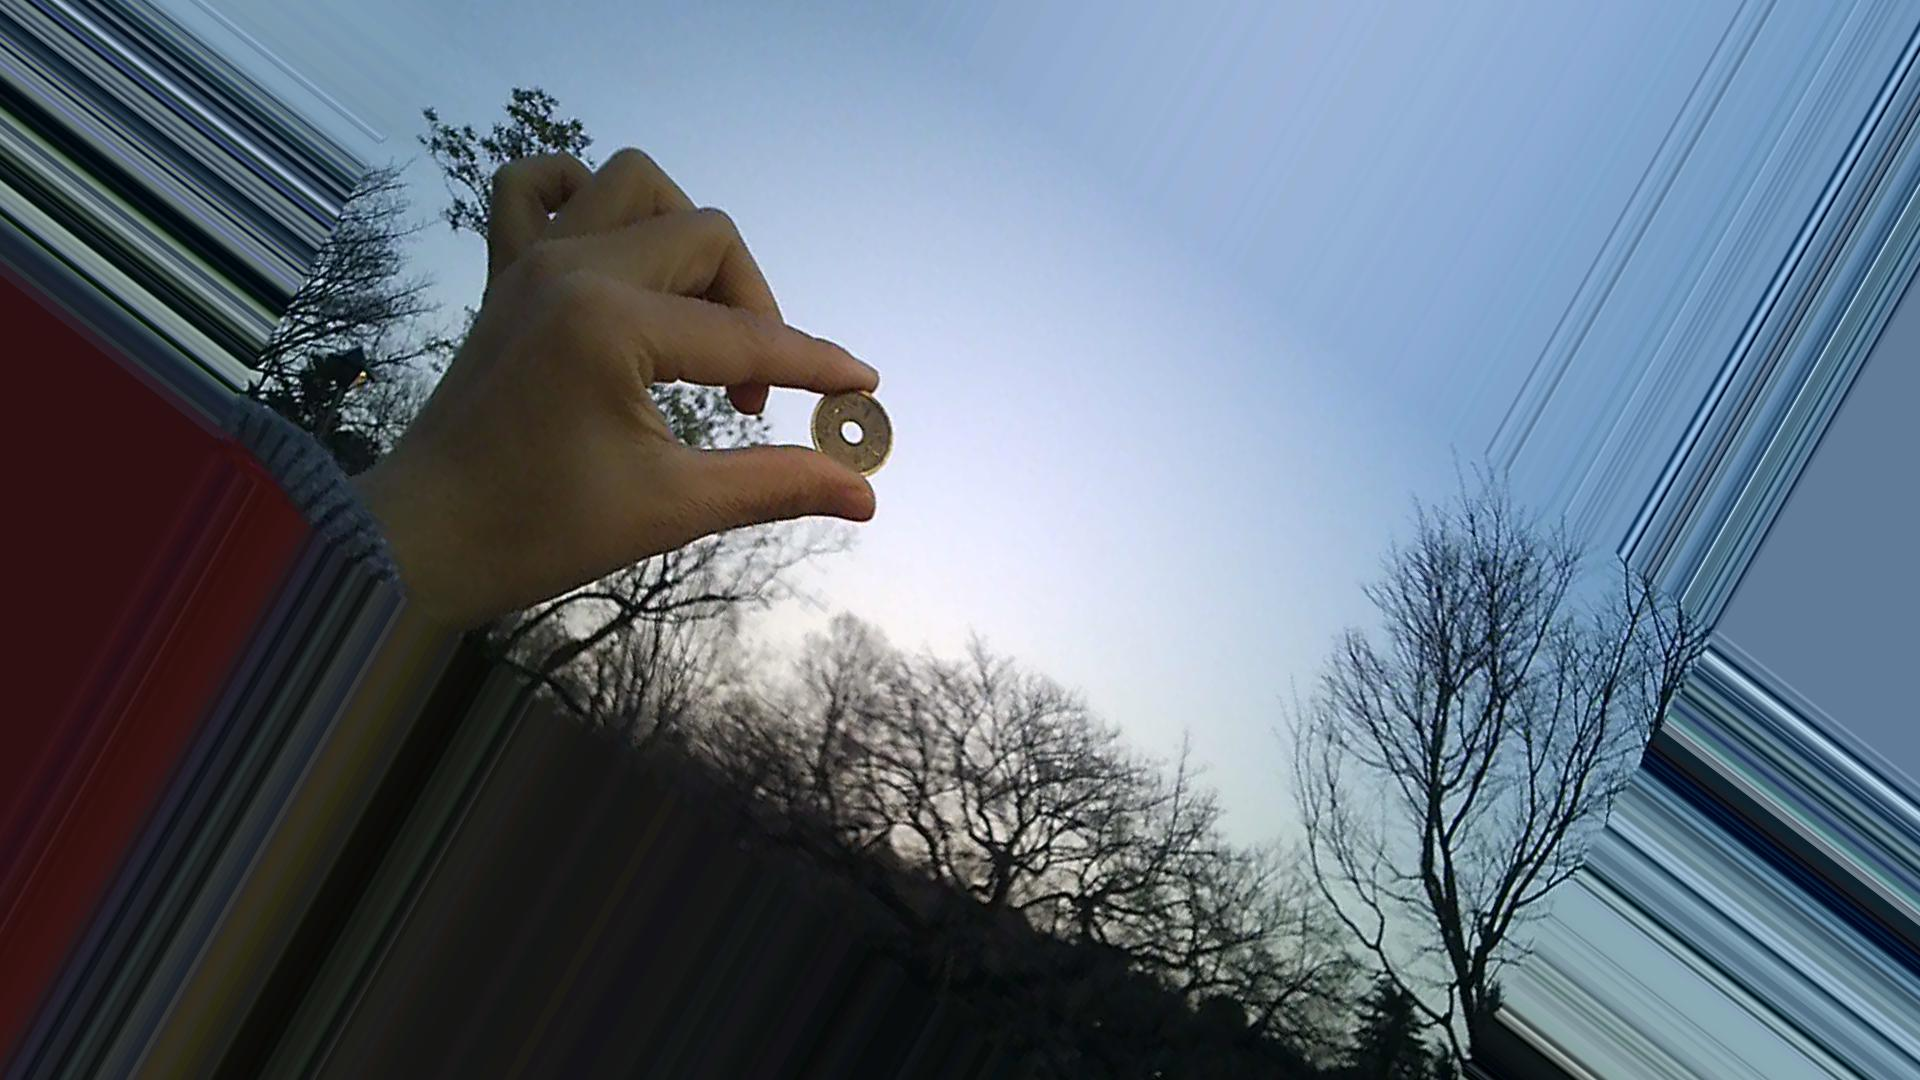5 Yen: (808, 392, 897, 487)
